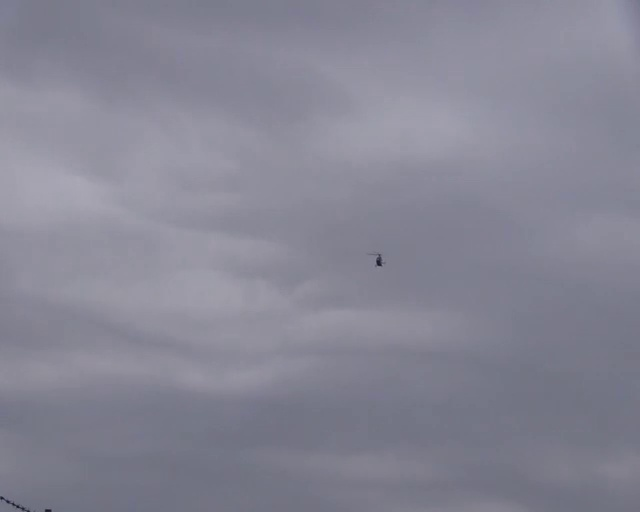HELICOPTER: (367, 252, 384, 267)
